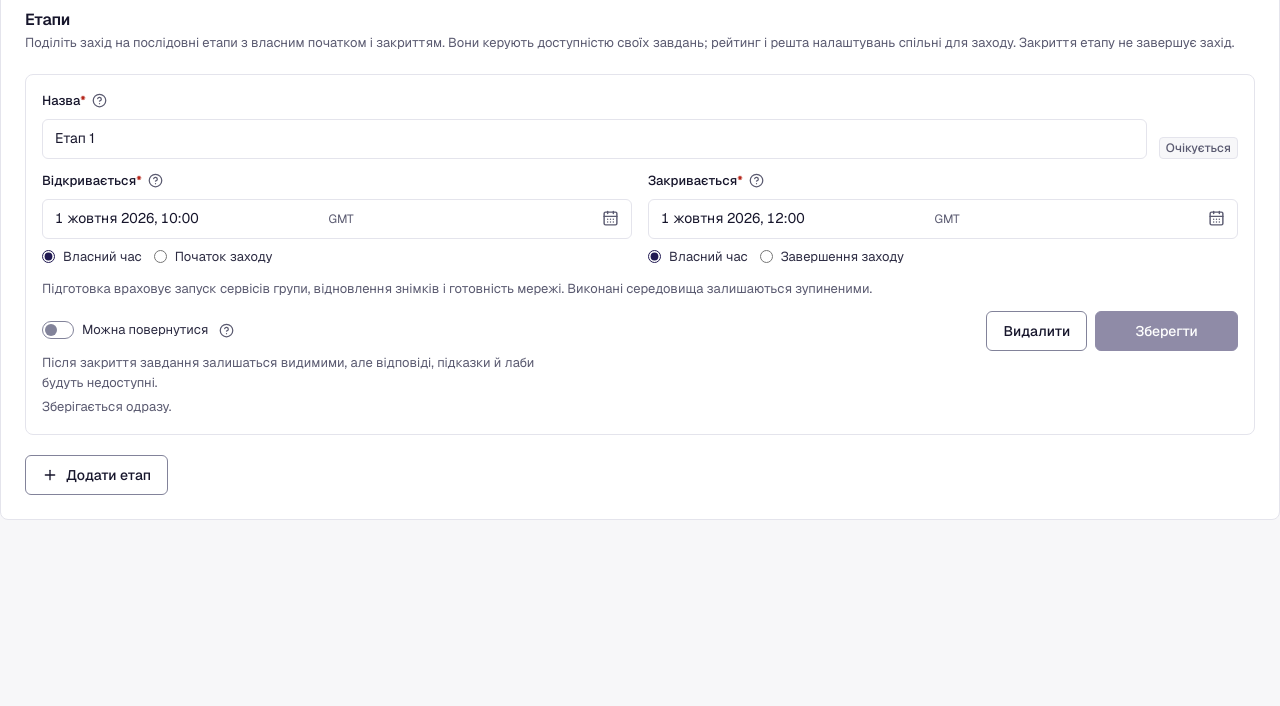
Test: the stages block › keeps the new-stage form closed behind «Додати етап» until asked, and «Скасувати» closes it
The width and height of the screenshot is (1280, 706).
Check: the list item with aria-label "Етап «Етап 1»" is shown, box top-left (25, 74), bottom-right (1255, 434)
Check: the form "Новий етап" is not shown
Click the button "Додати етап": x=97, y=474 top-left (25, 454), bottom-right (168, 494)
(page scrolled)
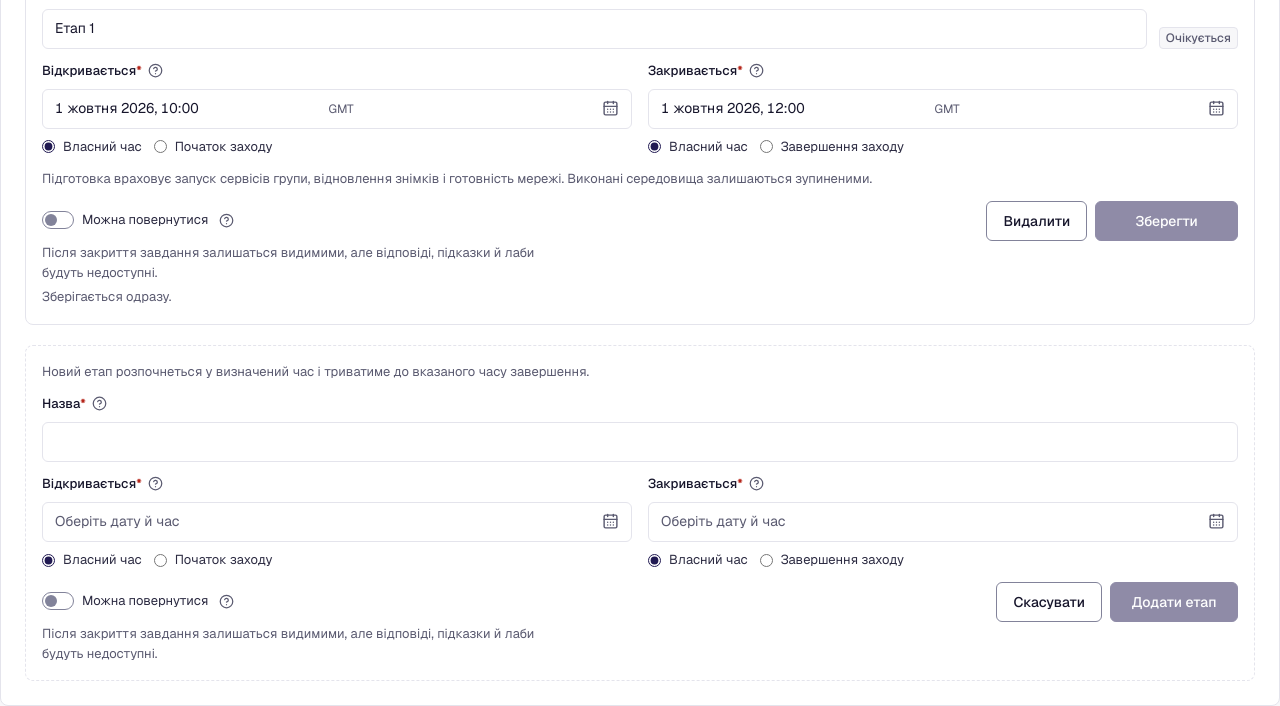
Check: the 2nd field labelled "Назва*" is shown, box top-left (42, 422), bottom-right (1238, 462)
Click the button "Скасувати": x=1049, y=602 top-left (996, 582), bottom-right (1102, 622)
(page scrolled)
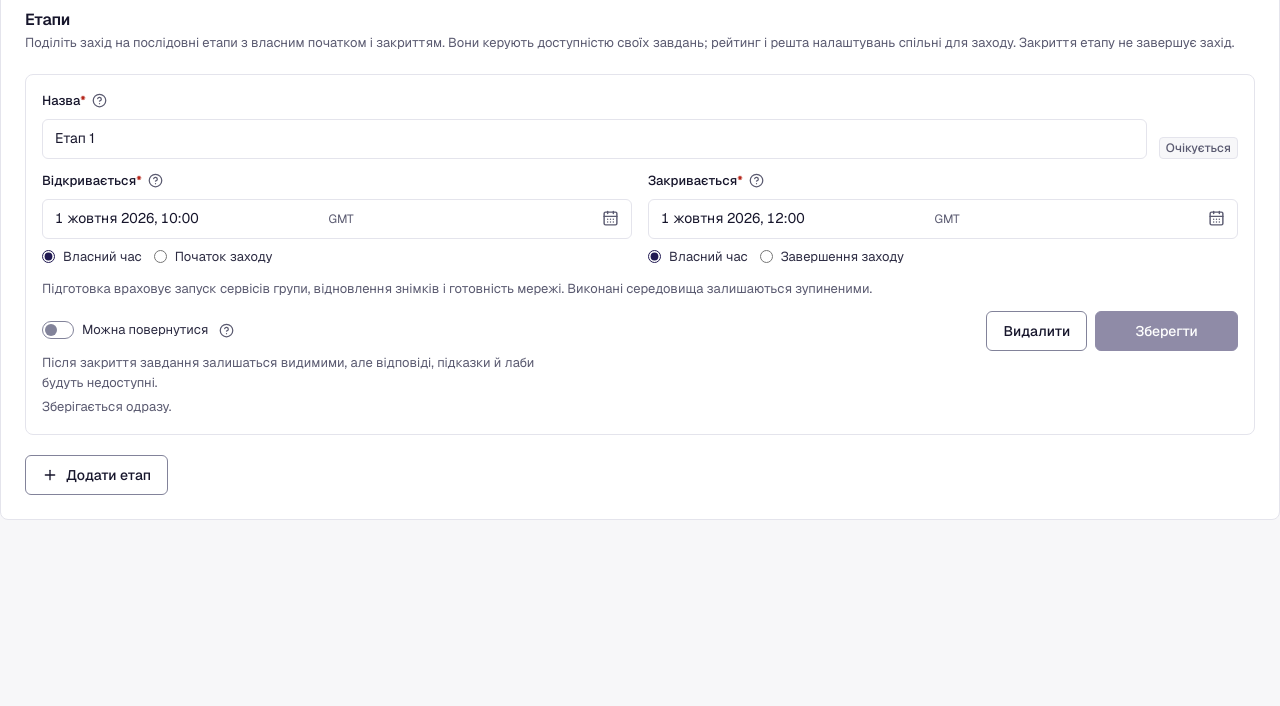
Check: the text "Новий етап" is gone
Check: the button "Додати етап" is shown, box top-left (25, 454), bottom-right (168, 494)
